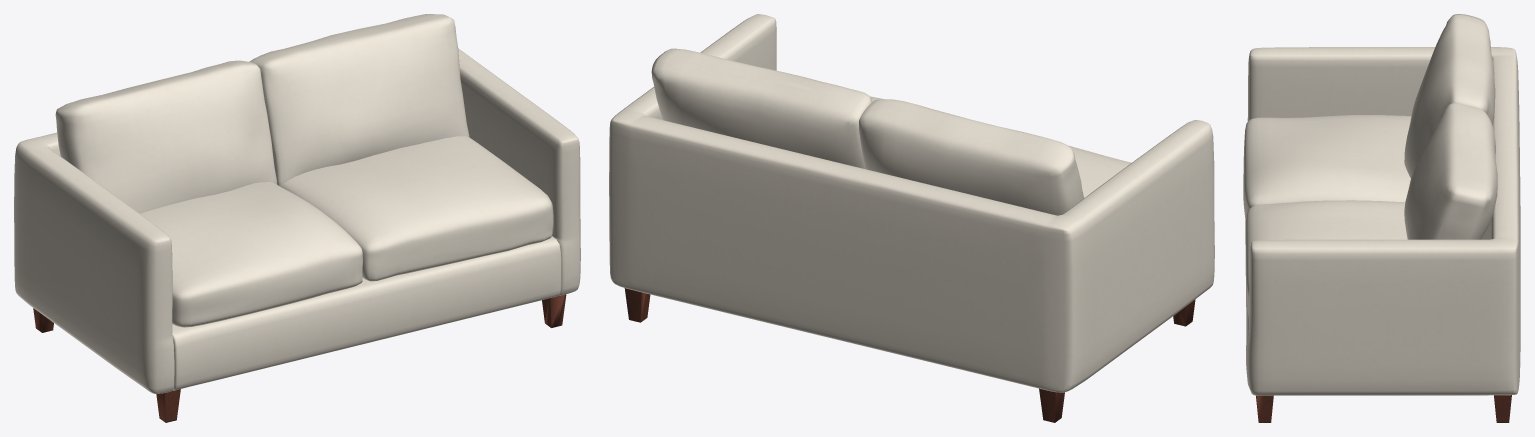
3 views of the same model, side by side, from view 1: azimuth 30°, elevation 25°; view 2: azimuth 150°, elevation 25°; view 3: azimuth 270°, elevation 25° (orthographic). The views are drawn at different scales.
Visible parts, largest first — view 1: RootNode; view 2: RootNode; view 3: RootNode.
Boxes of the visible parts, x1=… form: RootNode: x1=14, y1=14, x2=580, y2=422; RootNode: x1=609, y1=14, x2=1214, y2=422; RootNode: x1=1243, y1=14, x2=1520, y2=422.
Size of the model in its own units: 1.7 by 0.889 by 0.9652.
1 material, 1 textured.
